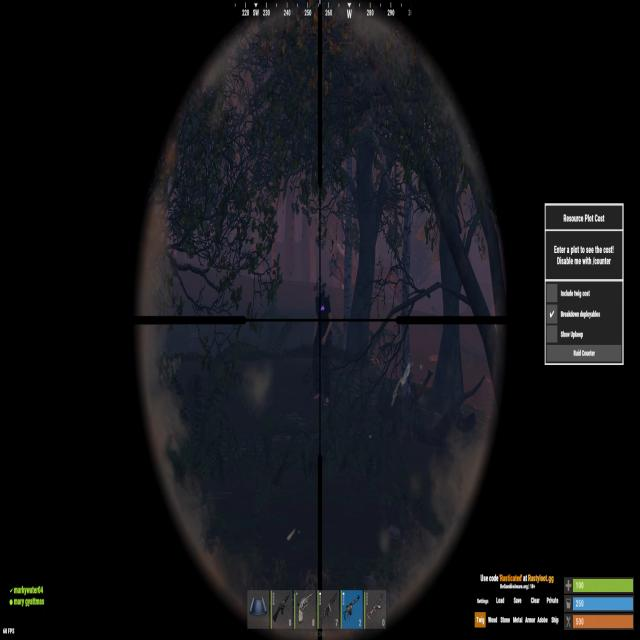Player: (313, 275, 333, 411)
